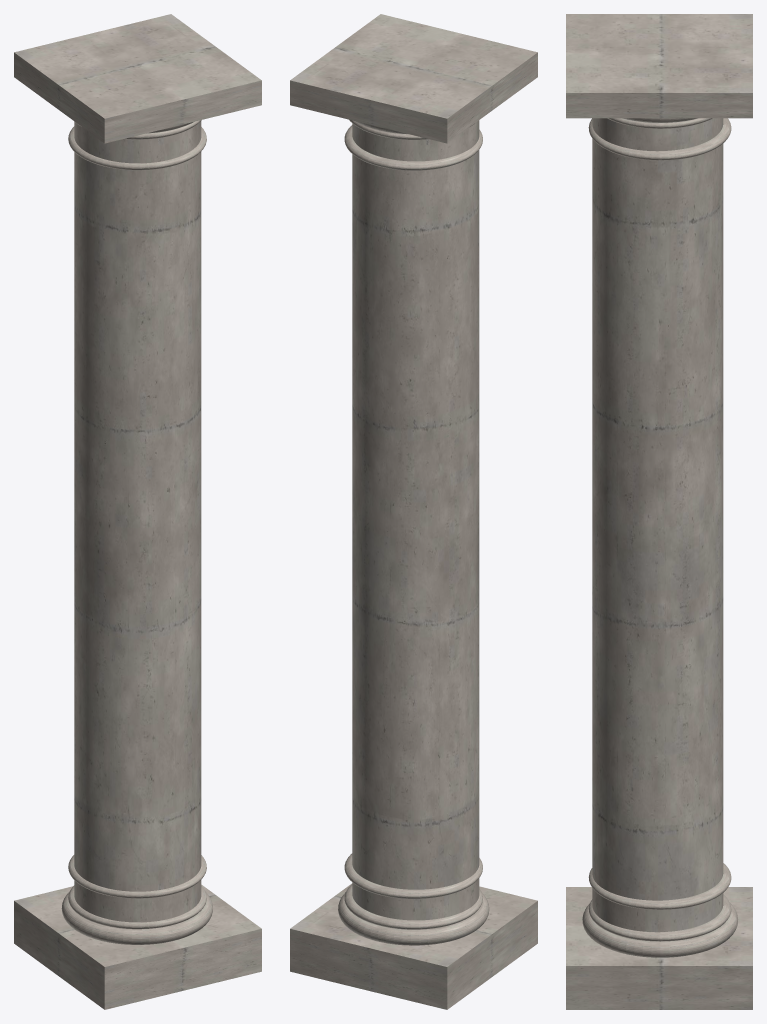
The model's file is Object_ClassicCollumn_White.glb.
3 renders of one model, left to right at view 1: azimuth 30°, elevation 25°; view 2: azimuth 150°, elevation 25°; view 3: azimuth 270°, elevation 25°, orthographic. The views are drawn at different scales.
Parts seen in each view (by area): view 1: Cylinder.008, Cube.044, Cube.045, Torus.047, Torus.046, Torus.044, Torus.045; view 2: Cylinder.008, Cube.044, Cube.045, Torus.047, Torus.046, Torus.044, Torus.045; view 3: Cylinder.008, Cube.044, Cube.045, Torus.047, Torus.045, Torus.046, Torus.044, Torus.043.
Part boxes in pixels (left/top/right/bottom): Cylinder.008: left=74, top=121, right=201, bottom=922; Cube.044: left=14, top=14, right=261, bottom=143; Cube.045: left=14, top=884, right=261, bottom=1009; Torus.047: left=61, top=892, right=212, bottom=944; Torus.046: left=68, top=855, right=206, bottom=898; Torus.044: left=68, top=126, right=206, bottom=170; Torus.045: left=68, top=885, right=206, bottom=929; Cylinder.008: left=352, top=120, right=479, bottom=920; Cube.044: left=290, top=14, right=537, bottom=143; Cube.045: left=290, top=883, right=537, bottom=1009; Torus.047: left=338, top=892, right=489, bottom=945; Torus.046: left=344, top=853, right=482, bottom=898; Torus.044: left=344, top=125, right=482, bottom=170; Torus.045: left=344, top=884, right=482, bottom=929; Cylinder.008: left=592, top=118, right=723, bottom=932; Cube.044: left=566, top=14, right=752, bottom=118; Cube.045: left=566, top=887, right=752, bottom=1009; Torus.047: left=582, top=903, right=737, bottom=957; Torus.045: left=588, top=894, right=731, bottom=941; Torus.046: left=588, top=863, right=731, bottom=909; Torus.044: left=588, top=118, right=731, bottom=160; Torus.043: left=607, top=118, right=712, bottom=128.
Size of the model in its own units: 2.85 by 15.46 by 2.85.
2 materials, 2 textured.
